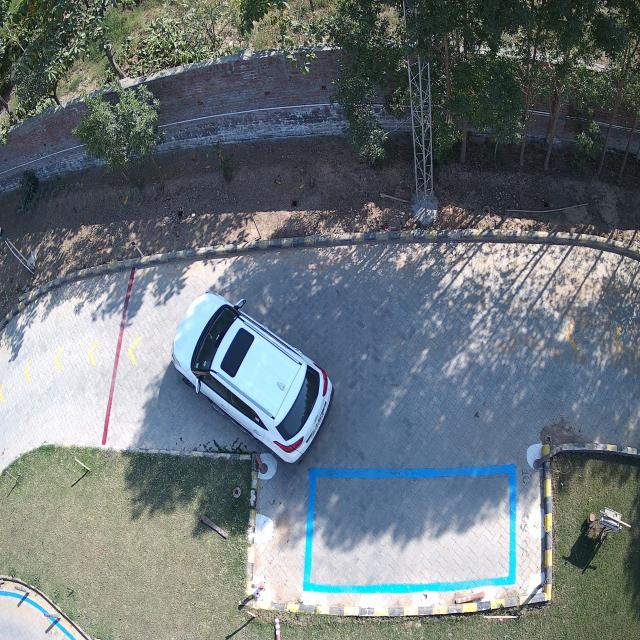car: (171, 293, 334, 463)
